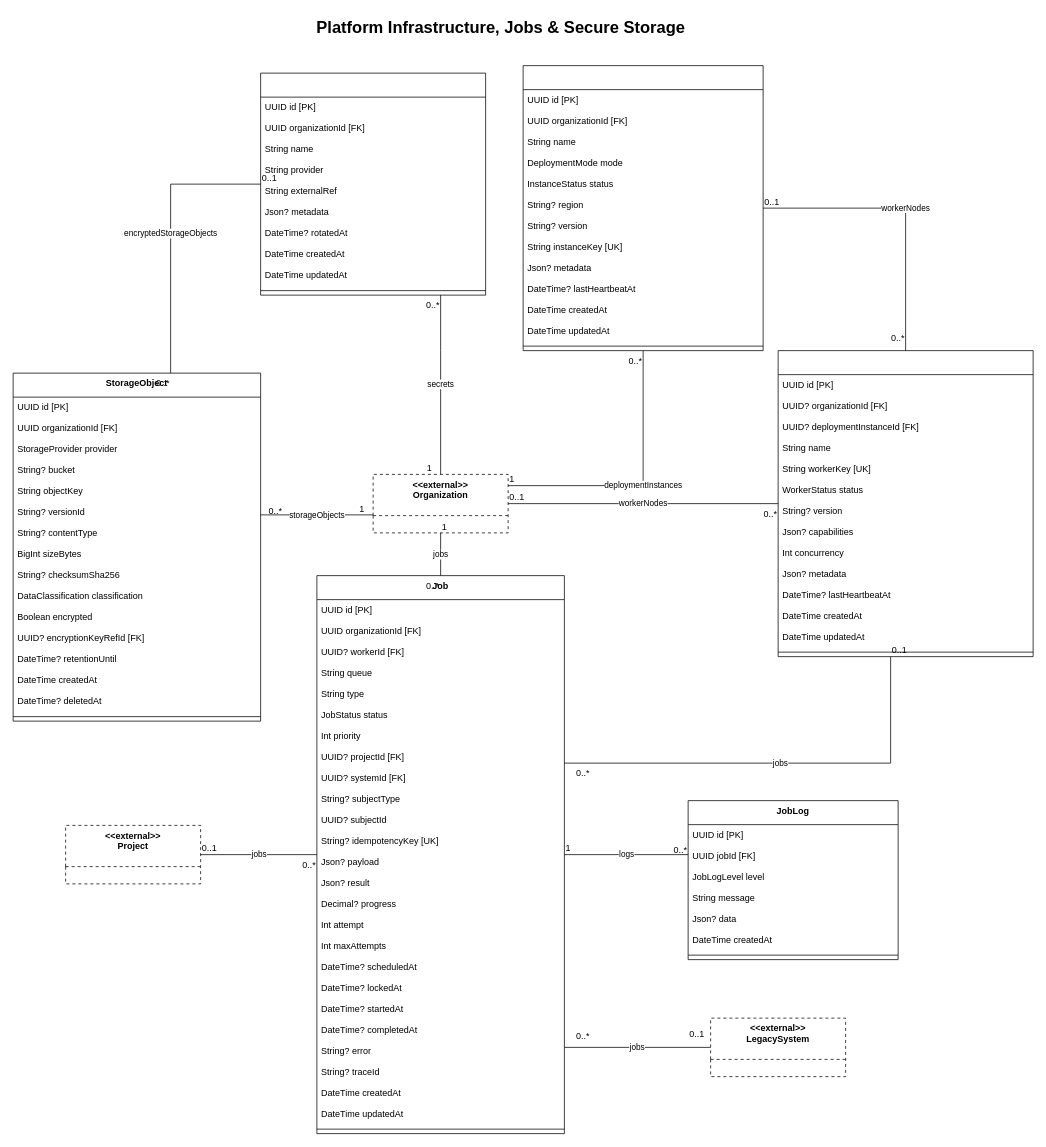
The diagram is 1046 pixels wide and 1147 high, and some of its shapes have lost their labels. Here are the shapes that lost their labels. From the top down, the box of each, then its label:
(260, 72, 486, 295): SecretReference
(522, 65, 763, 351): DeploymentInstance
(777, 350, 1033, 657): WorkerNode
